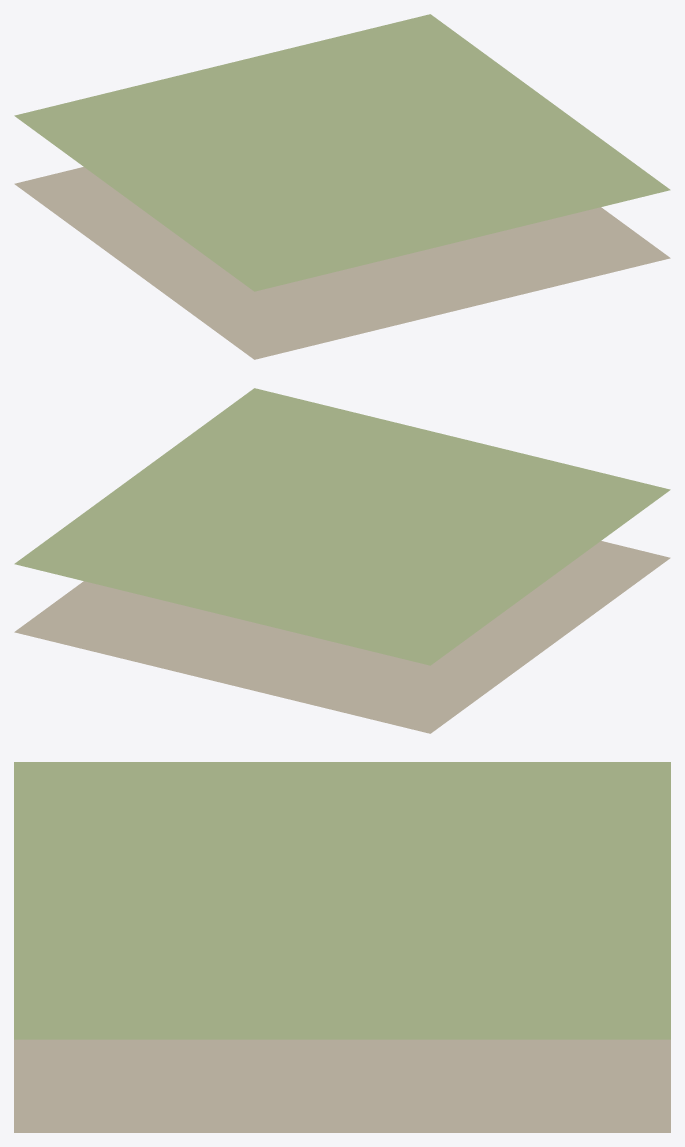
3 renders of one model, top to bottom at view 1: azimuth 30°, elevation 25°; view 2: azimuth 150°, elevation 25°; view 3: azimuth 270°, elevation 25°, orthographic. The views are drawn at different scales.
Visible parts, largest first — view 1: s_8_3__grass, s_8_3__soil; view 2: s_8_3__grass, s_8_3__soil; view 3: s_8_3__grass, s_8_3__soil.
Part boxes in pixels (x1,y1,x2,y2): s_8_3__grass: (14, 14, 670, 291); s_8_3__soil: (14, 167, 670, 359); s_8_3__grass: (14, 388, 670, 665); s_8_3__soil: (14, 541, 670, 733); s_8_3__grass: (14, 762, 670, 1039); s_8_3__soil: (14, 1039, 670, 1132).
Size of the model in its own units: 128 by 20.01 by 128.
